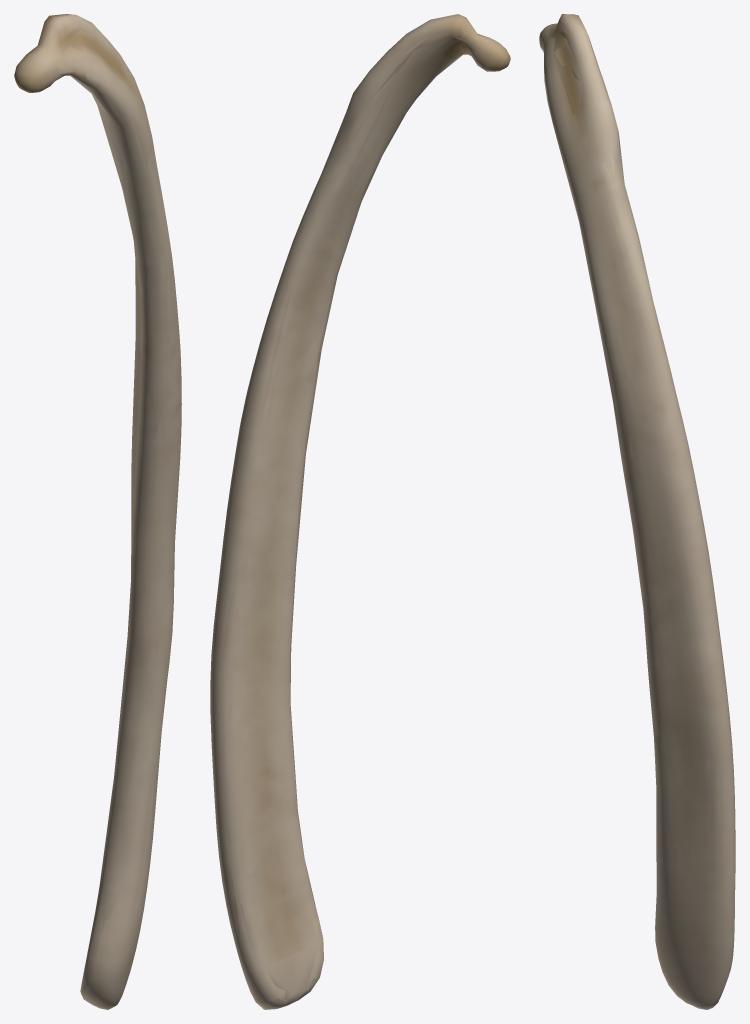
File: Rib L04.fbx
The picture shows the model from 3 angles, left to right: view 1: azimuth 30°, elevation 25°; view 2: azimuth 150°, elevation 25°; view 3: azimuth 270°, elevation 25°; orthographic projection. The views are drawn at different scales.
Parts seen in each view (by area): view 1: Rib L04 low, Rib L04; view 2: Rib L04, Rib L04 low; view 3: Rib L04, Rib L04 low.
Boxes of the visible parts, left/top/right/bottom form: Rib L04 low: left=32, top=15, right=181, bottom=1008; Rib L04: left=14, top=14, right=181, bottom=1009; Rib L04: left=210, top=14, right=510, bottom=1009; Rib L04 low: left=222, top=15, right=503, bottom=1005; Rib L04: left=539, top=14, right=735, bottom=1009; Rib L04 low: left=540, top=14, right=727, bottom=1009.
Bounding box in the file's own units: 9.71 × 42.01 × 7.95.
1 material, 1 textured.
